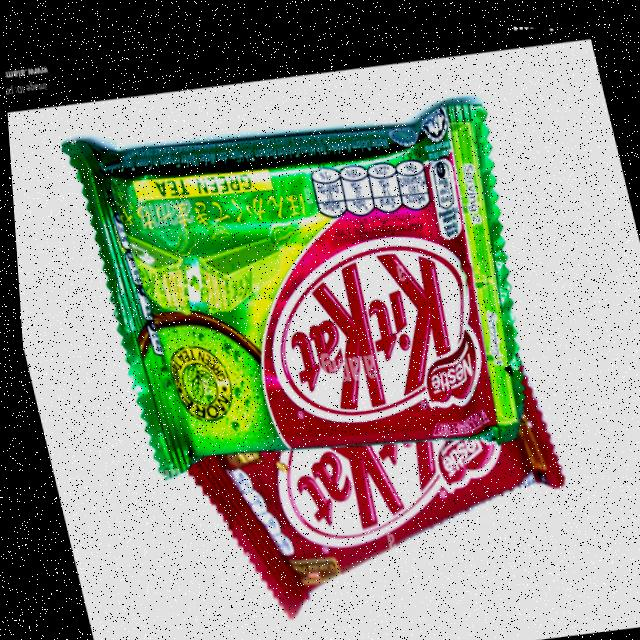kitkat: (56, 65, 543, 500), (126, 283, 619, 640)
